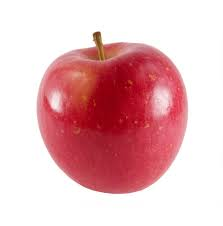apple: (35, 31, 189, 195)
